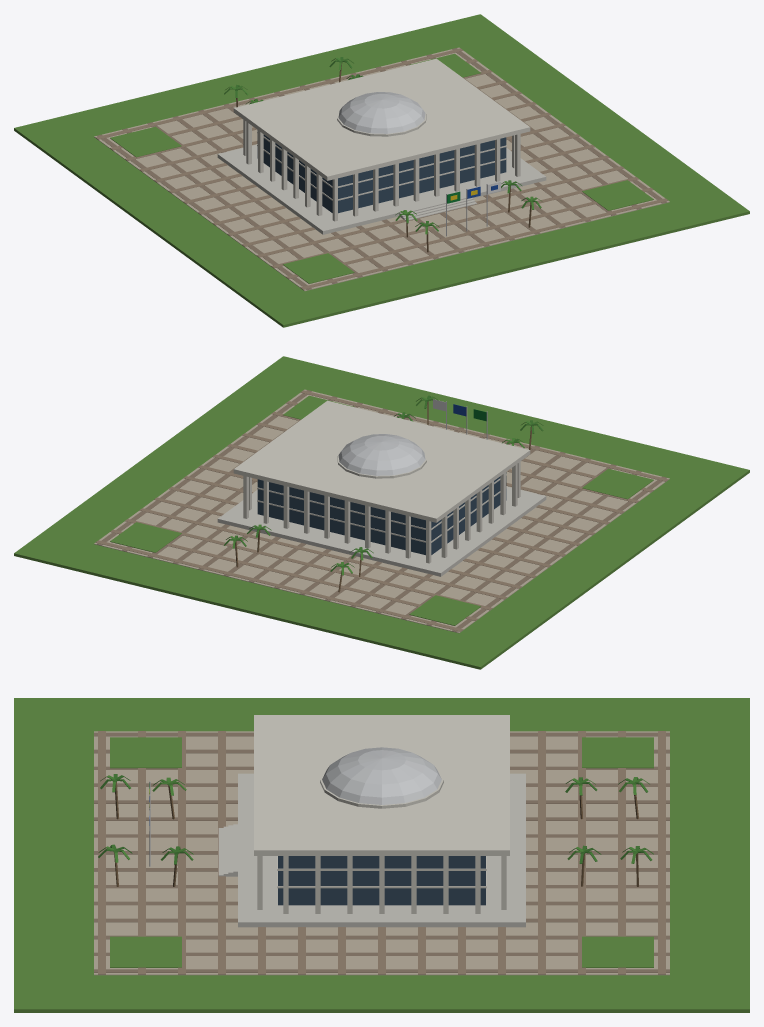
Rendered from palacio_araguaia.glb.
The picture shows the model from 3 angles, top to bottom: view 1: azimuth 30°, elevation 25°; view 2: azimuth 150°, elevation 25°; view 3: azimuth 270°, elevation 25°; orthographic projection. The views are drawn at different scales.
Parts seen in each view (by area): view 1: palacio_araguaia; view 2: palacio_araguaia; view 3: palacio_araguaia.
Part boxes in pixels (x1,y1,x2,y2): palacio_araguaia: (14, 14, 749, 327); palacio_araguaia: (14, 356, 749, 669); palacio_araguaia: (14, 698, 749, 1012).
Bounding box in the file's own units: 184 × 27.3 × 184.
